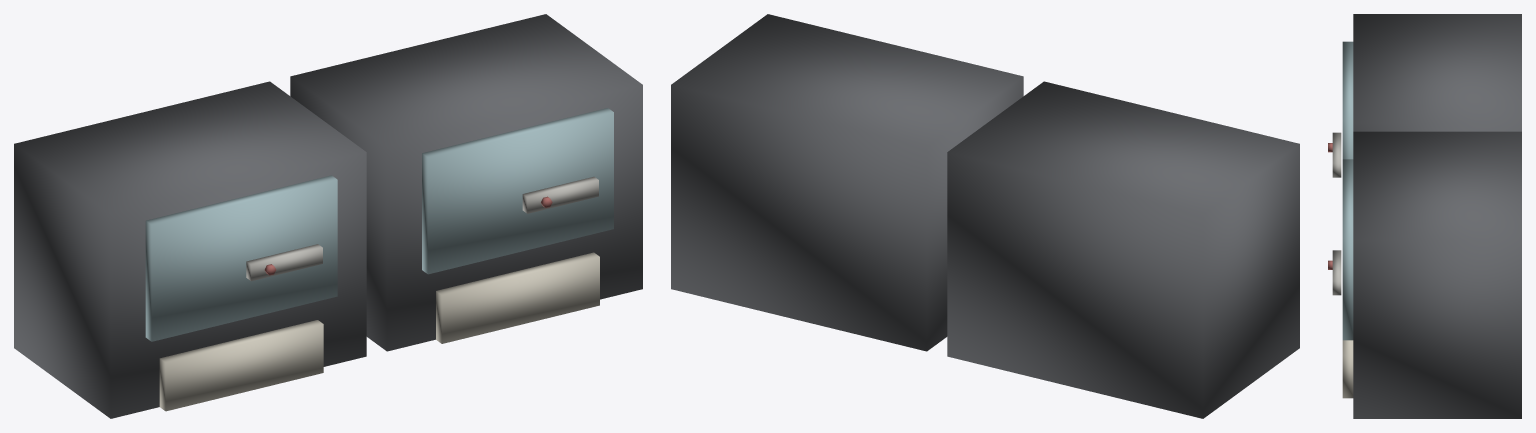
Rendered from television__cluster.glb.
3 views of the same model, side by side, from view 1: azimuth 30°, elevation 25°; view 2: azimuth 150°, elevation 25°; view 3: azimuth 270°, elevation 25° (orthographic). The views are drawn at different scales.
Visible parts, largest first — view 1: world; view 2: world; view 3: world.
Boxes of the visible parts, left/top/right/bottom form: world: left=14, top=14, right=642, bottom=418; world: left=671, top=14, right=1299, bottom=418; world: left=1328, top=14, right=1521, bottom=418.
Bounding box in the file's own units: 1.14 × 0.42 × 0.4135.
